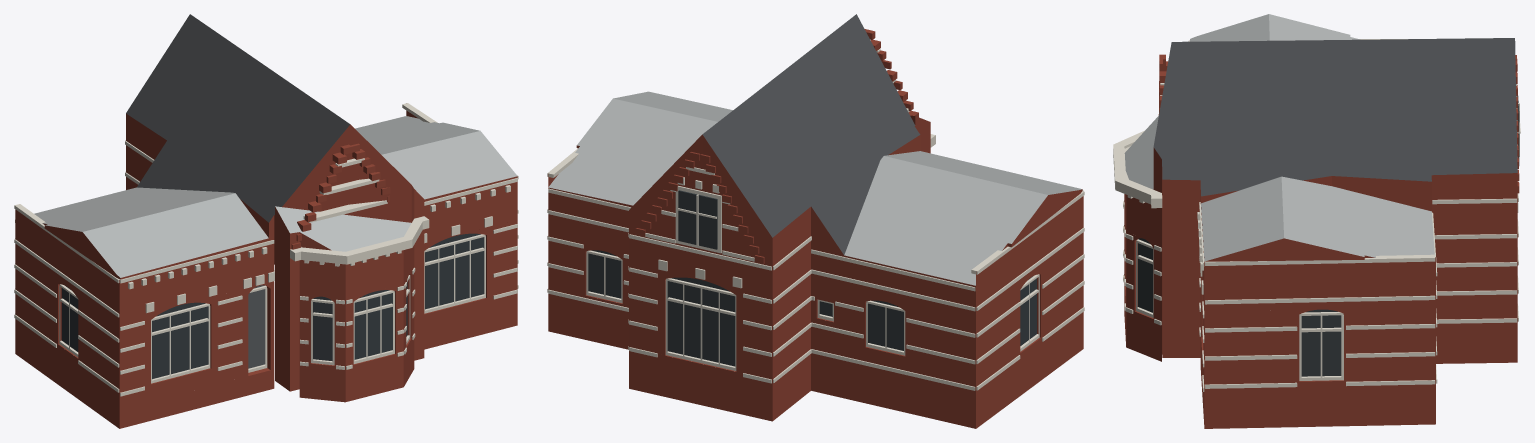
File: westergas-bazenwoning-west.glb
The picture shows the model from 3 angles, left to right: view 1: azimuth 30°, elevation 25°; view 2: azimuth 150°, elevation 25°; view 3: azimuth 270°, elevation 25°; orthographic projection. The views are drawn at different scales.
Visible parts, largest first — view 1: westergas-bazenwoning-west; view 2: westergas-bazenwoning-west; view 3: westergas-bazenwoning-west.
Part boxes in pixels (box(x1,y1,x2,y2)): westergas-bazenwoning-west: box(14, 14, 518, 428); westergas-bazenwoning-west: box(547, 14, 1084, 428); westergas-bazenwoning-west: box(1113, 14, 1520, 428).
Size of the model in its own units: 15.37 by 9.2 by 11.81.
